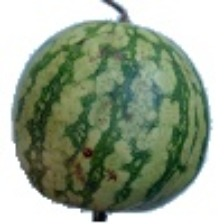watermelon: (25, 19, 221, 178)
